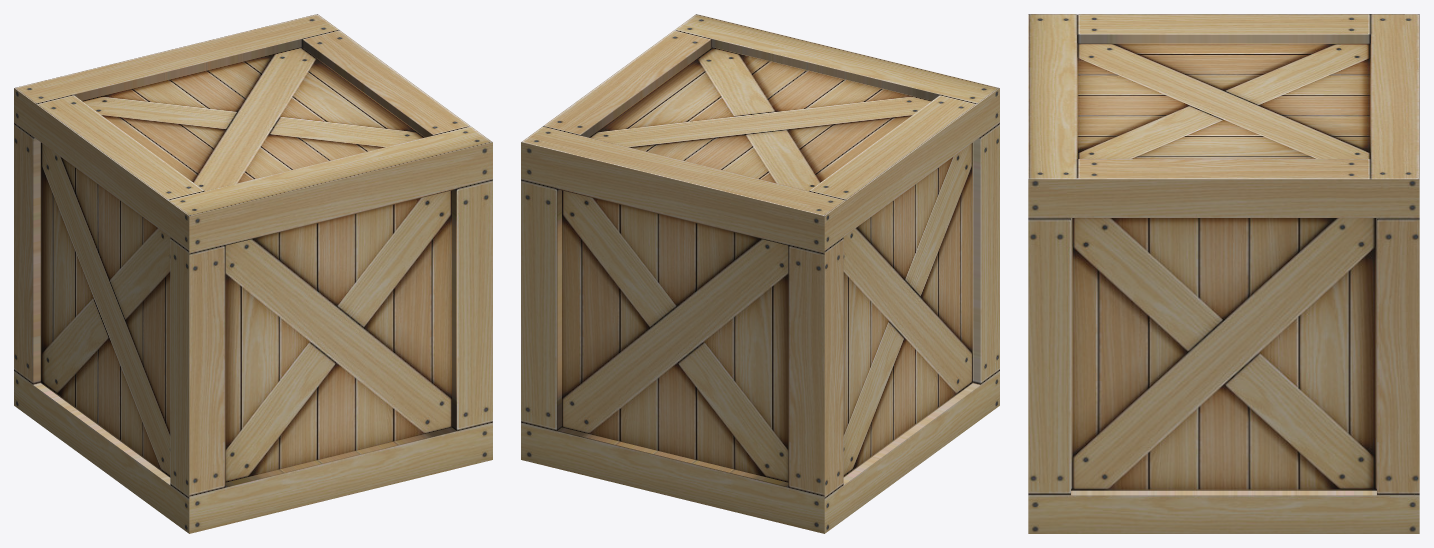
Rendered from cajaja.fbx.
3 renders of one model, left to right at view 1: azimuth 30°, elevation 25°; view 2: azimuth 150°, elevation 25°; view 3: azimuth 270°, elevation 25°, orthographic. The views are drawn at different scales.
Visible parts, largest first — view 1: Cube; view 2: Cube; view 3: Cube.
Part boxes in pixels (<box>): Cube: <box>14,14,492,533</box>; Cube: <box>521,14,999,533</box>; Cube: <box>1028,14,1419,533</box>.
Bounding box in the file's own units: 400 × 400 × 400.
Materials: 1 (1 with a texture image).
